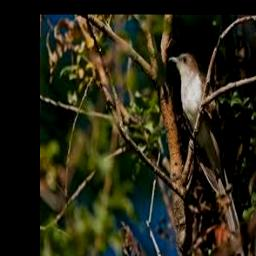Cuckoo: (169, 53, 240, 236)
